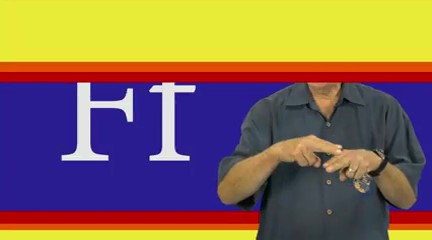F: (278, 133, 376, 187)
